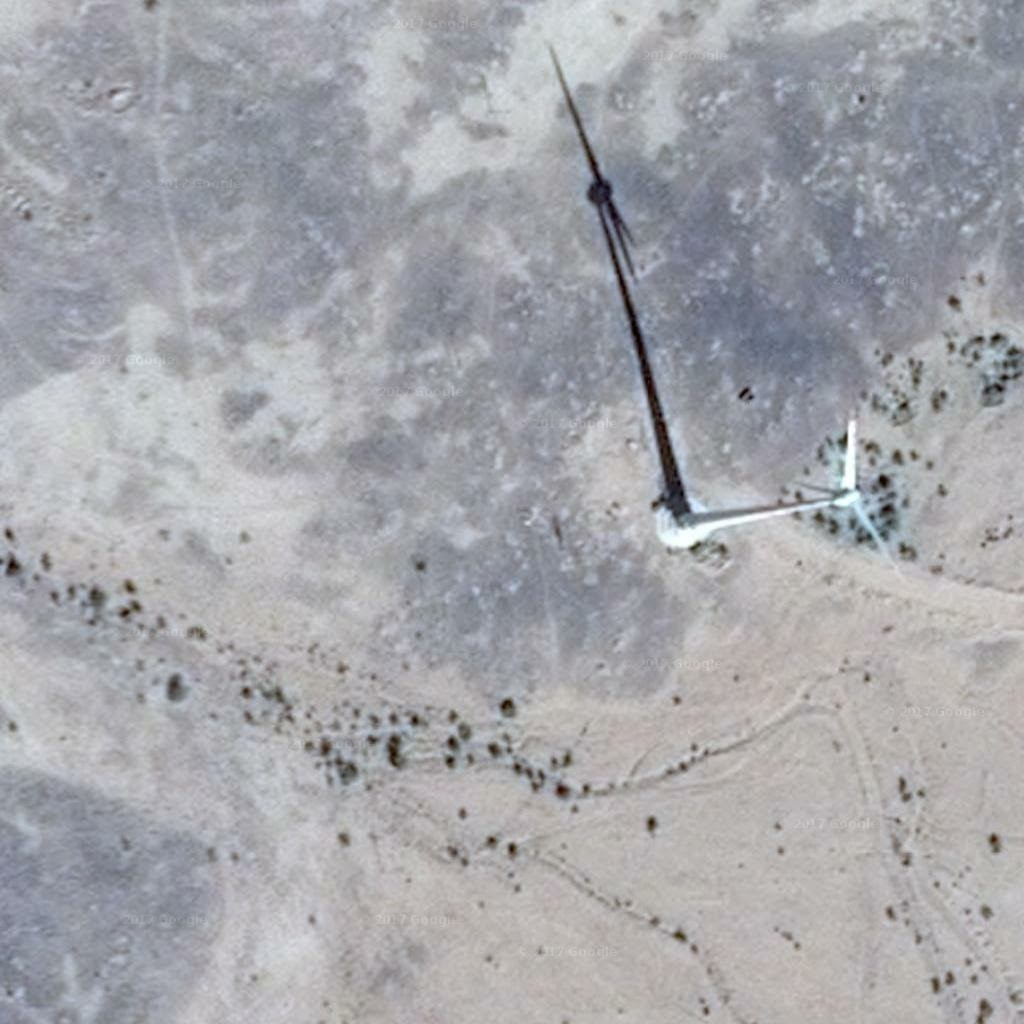Windmill: (541, 46, 697, 508)
